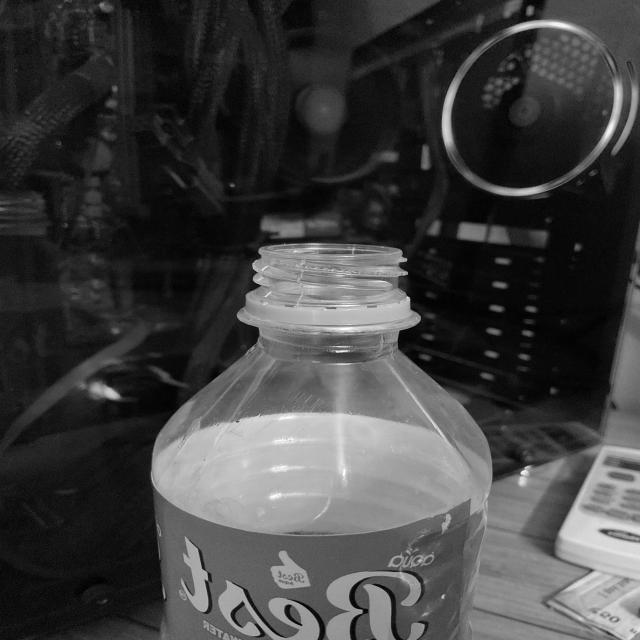open-cap: (234, 241, 418, 327)
